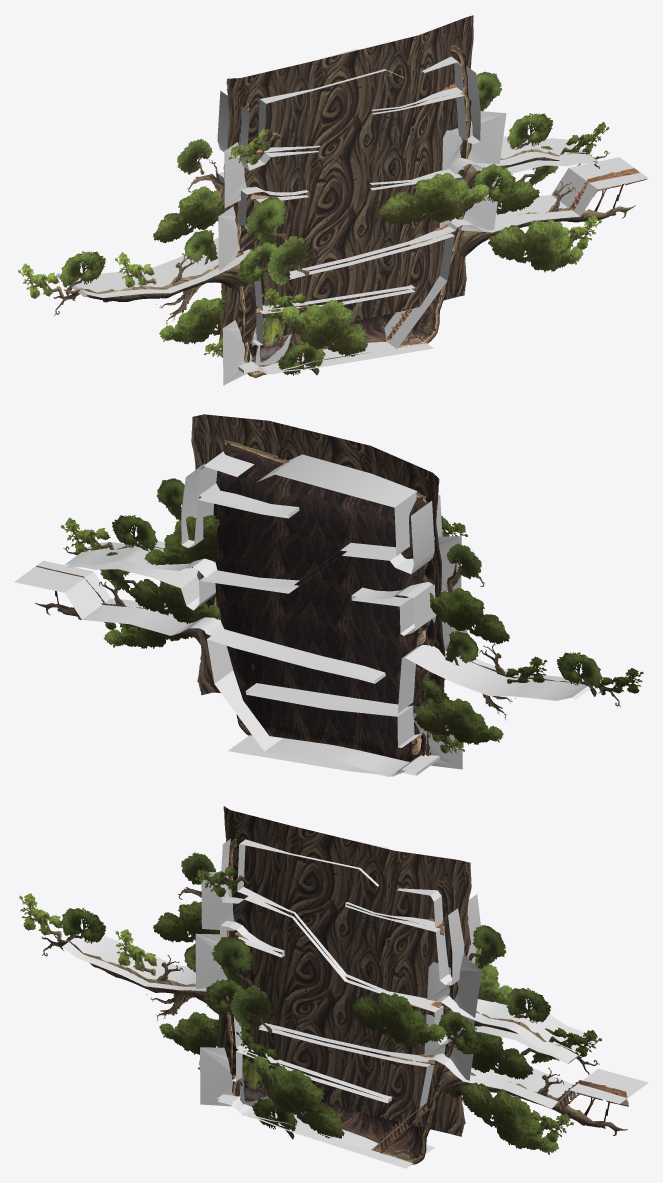
File: Tree Village Pt4.FBX
3 views of the same model, one above another, from view 1: azimuth 30°, elevation 25°; view 2: azimuth 150°, elevation 25°; view 3: azimuth 330°, elevation 25° (orthographic).
Visible parts, largest first — view 1: LVL11 Big Tree Bark Pt4, LVL 11 Col Pt4, Btree Branch Pt4_1, Btree Branch FG Pt4_2, LVL 11 Tree Int Mask Pt4, LVL11 Big Tree Interior Pt4_3, Btree Branch FG Pt4_1, LVL11 Big Tree Interior Pt4_1, Btree Branch BG Pt4, Btree Branch Pt4_2, LVL11 Hut Ext Pt4, LVL11 BTree Mask Ext Pt4 (+2 smaller); view 2: LVL 11 Col Pt4, LVL11 Big Tree Interior Pt4_1, LVL11 Big Tree Interior Pt4_2, Btree Branch Pt4_1, LVL11 Big Tree Bark Pt4, Btree Branch BG Pt4, LVL 11 Tree Int Mask Pt4, Btree Branch Pt4_2, Btree Branch FG Pt4_2; view 3: LVL11 Big Tree Bark Pt4, LVL 11 Col Pt4, Btree Branch Pt4_1, Btree Branch FG Pt4_2, LVL 11 Tree Int Mask Pt4, Btree Branch BG Pt4, LVL11 Big Tree Interior Pt4_3, Btree Branch FG Pt4_1, LVL11 Big Tree Interior Pt4_1, Btree Branch Pt4_2, LVL11 BTree Mask Ext Pt4, LVL 11 Wood Platform Pt4_3 (+3 smaller).
Boxes of the visible parts, bbox=[...] form: LVL11 Big Tree Bark Pt4: bbox=[219, 15, 473, 342]; LVL 11 Col Pt4: bbox=[56, 49, 648, 374]; Btree Branch Pt4_1: bbox=[18, 138, 247, 357]; Btree Branch FG Pt4_2: bbox=[378, 164, 601, 272]; LVL 11 Tree Int Mask Pt4: bbox=[218, 111, 506, 385]; LVL11 Big Tree Interior Pt4_3: bbox=[262, 287, 367, 375]; Btree Branch FG Pt4_1: bbox=[228, 128, 310, 285]; LVL11 Big Tree Interior Pt4_1: bbox=[235, 143, 471, 378]; Btree Branch BG Pt4: bbox=[476, 71, 558, 214]; Btree Branch Pt4_2: bbox=[458, 121, 635, 257]; LVL11 Hut Ext Pt4: bbox=[248, 316, 295, 362]; LVL11 BTree Mask Ext Pt4: bbox=[439, 128, 462, 228]; LVL 11 Col Pt4: bbox=[14, 451, 603, 776]; LVL11 Big Tree Interior Pt4_1: bbox=[215, 549, 431, 761]; LVL11 Big Tree Interior Pt4_2: bbox=[213, 440, 428, 591]; Btree Branch Pt4_1: bbox=[414, 543, 643, 753]; LVL11 Big Tree Bark Pt4: bbox=[191, 414, 447, 742]; Btree Branch BG Pt4: bbox=[100, 478, 220, 623]; LVL 11 Tree Int Mask Pt4: bbox=[182, 505, 467, 769]; Btree Branch Pt4_2: bbox=[35, 517, 200, 644]; Btree Branch FG Pt4_2: bbox=[104, 604, 193, 648]; LVL11 Big Tree Bark Pt4: bbox=[217, 806, 471, 1136]; LVL 11 Col Pt4: bbox=[61, 838, 648, 1168]; Btree Branch Pt4_1: bbox=[19, 852, 227, 1069]; Btree Branch FG Pt4_2: bbox=[351, 992, 573, 1154]; LVL 11 Tree Int Mask Pt4: bbox=[195, 871, 481, 1106]; Btree Branch BG Pt4: bbox=[468, 925, 559, 1079]; LVL11 Big Tree Interior Pt4_3: bbox=[236, 1029, 344, 1139]; Btree Branch FG Pt4_1: bbox=[195, 865, 273, 1032]; LVL11 Big Tree Interior Pt4_1: bbox=[225, 931, 458, 1164]; Btree Branch Pt4_2: bbox=[440, 1006, 627, 1135]; LVL11 BTree Mask Ext Pt4: bbox=[424, 962, 450, 1056]; LVL 11 Wood Platform Pt4_3: bbox=[557, 1080, 628, 1121].
Size of the model in its own units: 7071 by 768 by 3458.
7 materials, 7 textured.
